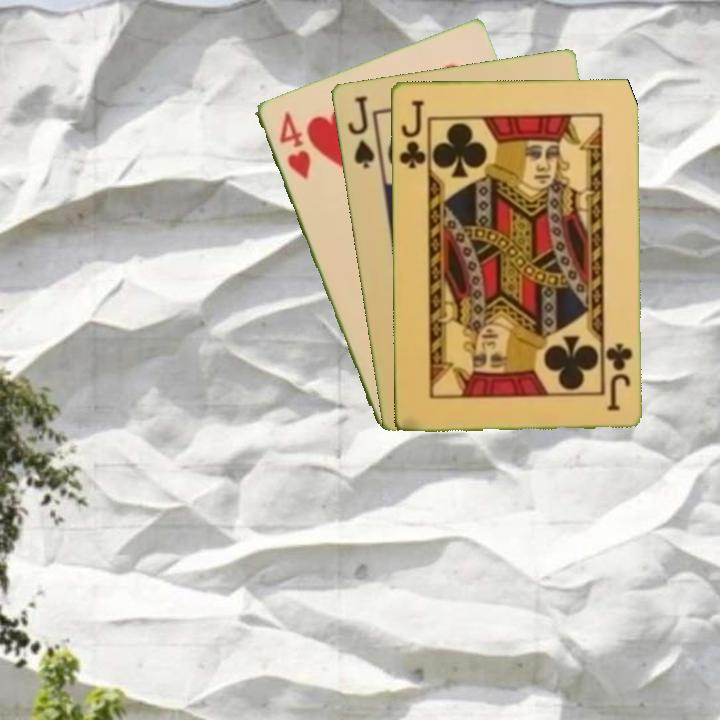4h: (275, 108, 314, 183)
Jc: (395, 96, 428, 171), (602, 339, 635, 414)
Js: (343, 92, 377, 171)
